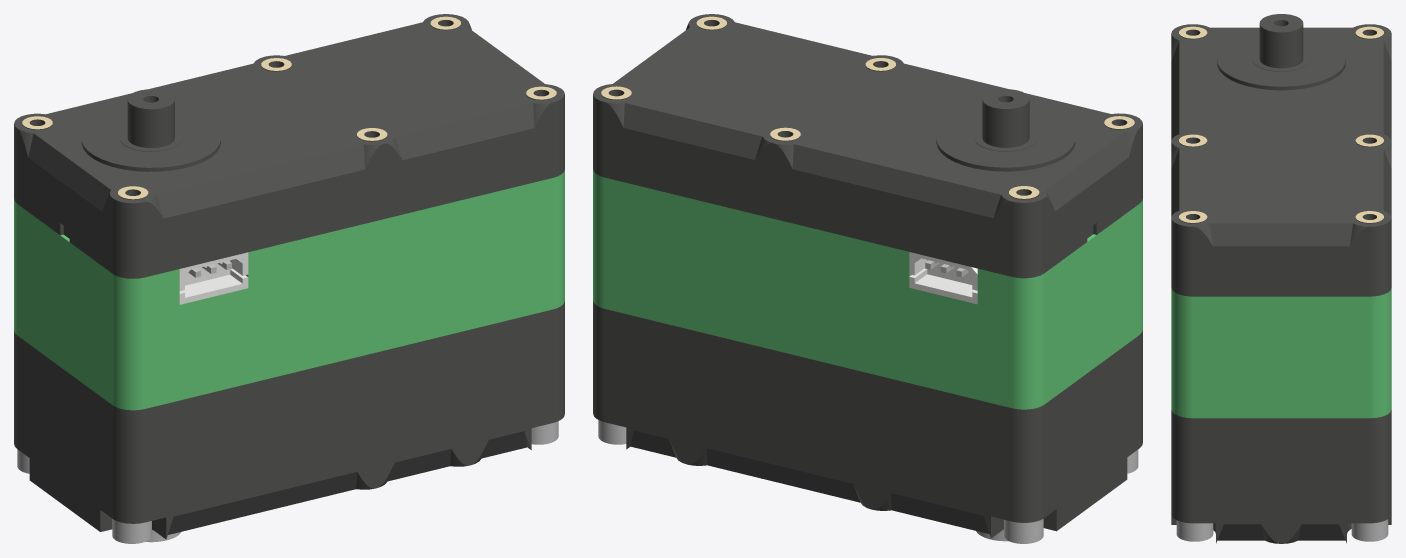
Rendered from HTD-85H v3 v1.glb.glb.
The picture shows the model from 3 angles, left to right: view 1: azimuth 30°, elevation 25°; view 2: azimuth 150°, elevation 25°; view 3: azimuth 270°, elevation 25°; orthographic projection. The views are drawn at different scales.
Bounding box in the file's own units: 0.0653 × 0.0598 × 0.03.
